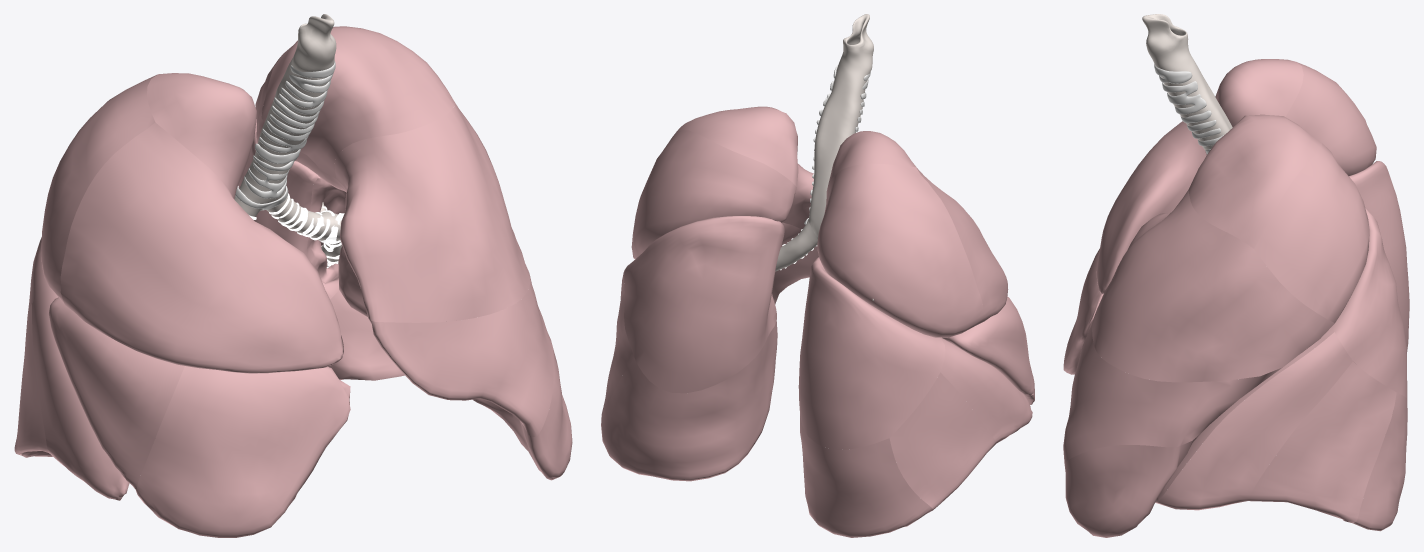
File: lungs-mobile.glb
The picture shows the model from 3 angles, left to right: view 1: azimuth 30°, elevation 25°; view 2: azimuth 150°, elevation 25°; view 3: azimuth 270°, elevation 25°; orthographic projection. The views are drawn at different scales.
Parts seen in each view (by area): view 1: VH_M_right_anterior_bronchopulmonary_segment, VH_M_left_anterior_bronchopulmonary_segment, VH_M_right_medial_bronchopulmonary_segment, VH_M_left_lingula_superior_bronchopulmonary_segment, VH_M_left_apical_bronchopulmonary_segment, VH_M_right_lateral_bronchopulmonary_segment, VH_M_right_apical_bronchopulmonary_segment, VH_M_right_posterior_bronchopulmonary_segment, VH_M_right_anterior_basal_bronchopulmonary_segment, VH_M_trachea, VH_M_tracheal_cartilage, VH_M_left_lingula_inferior_bronchopulmonary_segment (+9 smaller); view 2: VH_M_left_superior_bronchopulmonary_segment, VH_M_right_posterior_bronchopulmonary_segment, VH_M_right_superior_bronchopulmonary_segment, VH_M_left_posetrior_basal_bronchopulmonary_segment, VH_M_left_posterior_bronchopulmonary_segment, VH_M_right_posterior_basal_bronchopulmonary_segment, VH_M_right_lateral_basal_bronchopulmonary_segment, VH_M_trachea, VH_M_left_apical_bronchopulmonary_segment, VH_M_right_anterior_basal_bronchopulmonary_segment, VH_M_right_lateral_bronchopulmonary_segment, VH_M_right_anterior_bronchopulmonary_segment (+5 smaller); view 3: VH_M_left_anterior_bronchopulmonary_segment, VH_M_left_lateral_basal_bronchopulmonary_segment, VH_M_left_posterior_bronchopulmonary_segment, VH_M_left_anterior_basal_bronchopulmonary_segment, VH_M_left_lingula_superior_bronchopulmonary_segment, VH_M_left_apical_bronchopulmonary_segment, VH_M_left_lingula_inferior_bronchopulmonary_segment, VH_M_right_anterior_bronchopulmonary_segment, VH_M_left_superior_bronchopulmonary_segment, VH_M_right_posterior_bronchopulmonary_segment, VH_M_right_apical_bronchopulmonary_segment, VH_M_left_posetrior_basal_bronchopulmonary_segment (+5 smaller).
Boxes of the visible parts, box(x1,y1,x2,y2) form: VH_M_right_anterior_bronchopulmonary_segment: box(60, 122, 343, 373); VH_M_left_anterior_bronchopulmonary_segment: box(334, 103, 530, 322); VH_M_right_medial_bronchopulmonary_segment: box(135, 366, 350, 537); VH_M_left_lingula_superior_bronchopulmonary_segment: box(369, 276, 553, 436); VH_M_left_apical_bronchopulmonary_segment: box(261, 26, 455, 178); VH_M_right_lateral_bronchopulmonary_segment: box(49, 297, 184, 489); VH_M_right_apical_bronchopulmonary_segment: box(147, 73, 256, 199); VH_M_right_posterior_bronchopulmonary_segment: box(41, 75, 156, 304); VH_M_right_anterior_basal_bronchopulmonary_segment: box(32, 289, 129, 500); VH_M_trachea: box(239, 14, 336, 210); VH_M_tracheal_cartilage: box(244, 61, 335, 198); VH_M_left_lingula_inferior_bronchopulmonary_segment: box(339, 263, 572, 480); VH_M_left_superior_bronchopulmonary_segment: box(624, 216, 784, 393); VH_M_right_posterior_bronchopulmonary_segment: box(817, 163, 984, 337); VH_M_right_superior_bronchopulmonary_segment: box(798, 257, 945, 449); VH_M_left_posetrior_basal_bronchopulmonary_segment: box(601, 321, 777, 481); VH_M_left_posterior_bronchopulmonary_segment: box(633, 130, 796, 255); VH_M_right_posterior_basal_bronchopulmonary_segment: box(800, 414, 932, 537); VH_M_right_lateral_basal_bronchopulmonary_segment: box(889, 372, 996, 509); VH_M_trachea: box(808, 14, 873, 238); VH_M_left_apical_bronchopulmonary_segment: box(673, 106, 798, 186); VH_M_right_anterior_basal_bronchopulmonary_segment: box(940, 337, 1032, 443); VH_M_right_lateral_bronchopulmonary_segment: box(942, 296, 1033, 396); VH_M_right_anterior_bronchopulmonary_segment: box(916, 168, 1008, 320); VH_M_left_anterior_bronchopulmonary_segment: box(1092, 189, 1334, 382); VH_M_left_lateral_basal_bronchopulmonary_segment: box(1248, 361, 1396, 523); VH_M_left_posterior_bronchopulmonary_segment: box(1254, 143, 1369, 322); VH_M_left_anterior_basal_bronchopulmonary_segment: box(1155, 332, 1352, 510); VH_M_left_lingula_superior_bronchopulmonary_segment: box(1063, 319, 1328, 463); VH_M_left_apical_bronchopulmonary_segment: box(1188, 114, 1322, 248); VH_M_left_lingula_inferior_bronchopulmonary_segment: box(1064, 434, 1200, 537); VH_M_right_anterior_bronchopulmonary_segment: box(1096, 121, 1206, 293); VH_M_left_superior_bronchopulmonary_segment: box(1331, 207, 1407, 397); VH_M_right_posterior_bronchopulmonary_segment: box(1286, 62, 1376, 175); VH_M_right_apical_bronchopulmonary_segment: box(1205, 59, 1303, 154); VH_M_left_posetrior_basal_bronchopulmonary_segment: box(1353, 393, 1407, 531).
Size of the model in its own units: 0.2594 by 0.2745 by 0.1897.
